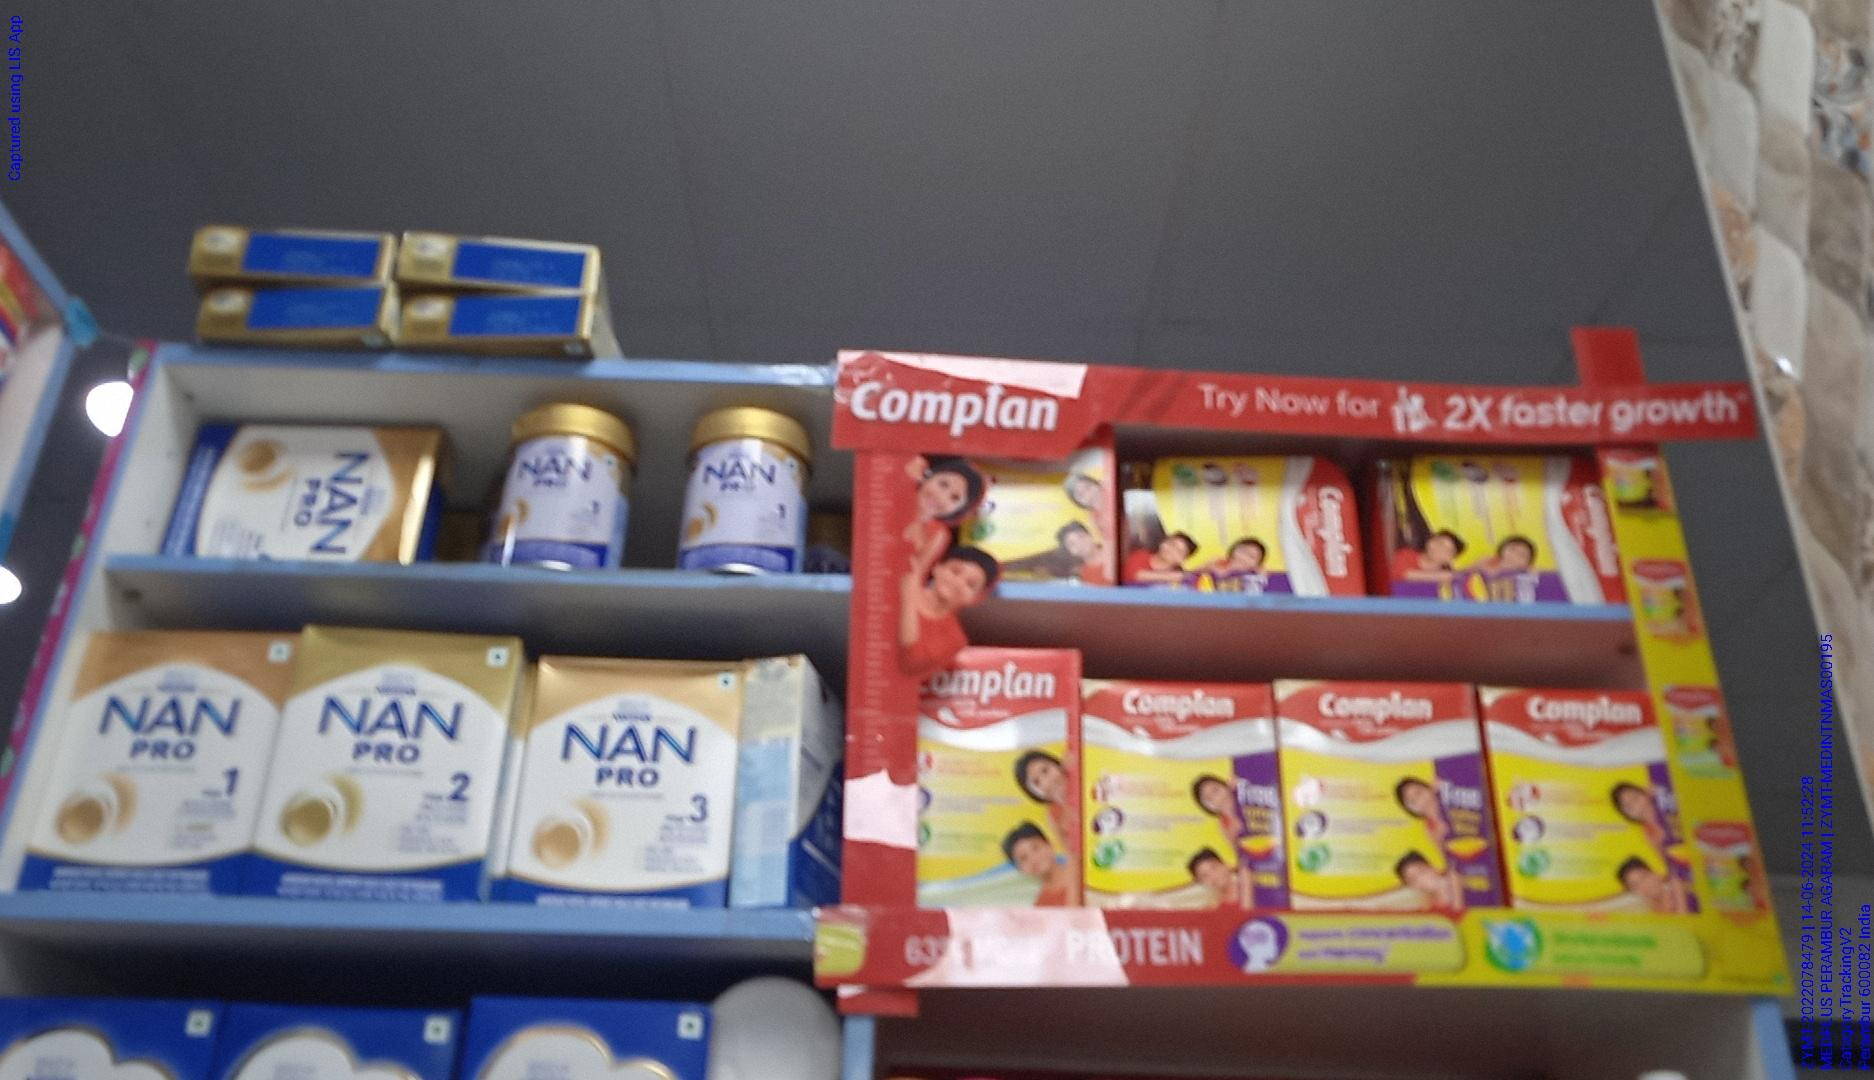COMPLAN_KESAR_BADAM_500_GMS_PACK: (1288, 677, 1481, 905), (1085, 680, 1278, 905), (1499, 685, 1675, 913)
